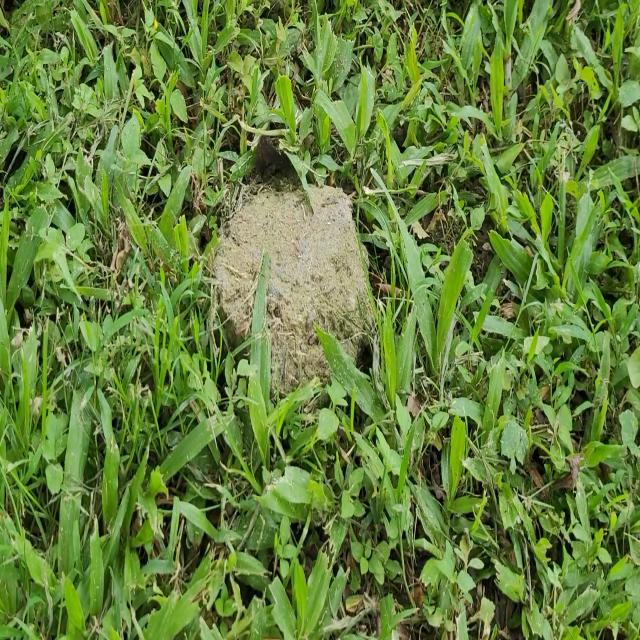grass: (0, 0, 640, 639)
stone: (213, 185, 373, 392)
